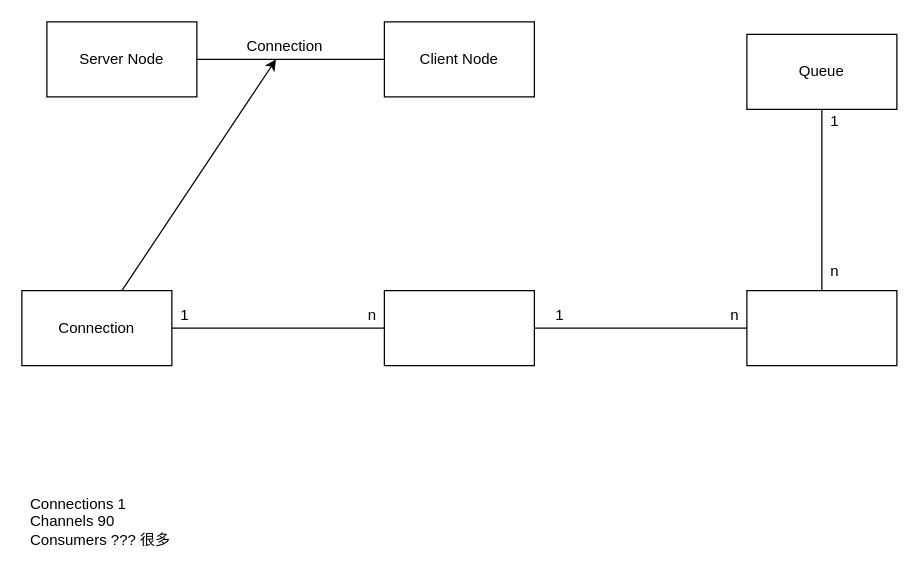
Some shapes in this 919 by 575 pixel diagram are drawn without their labels. Here are the shapes that lost their labels. From the top down, the box of each, then its label:
(383, 289, 534, 366): Channel
(746, 289, 897, 366): Consumer
